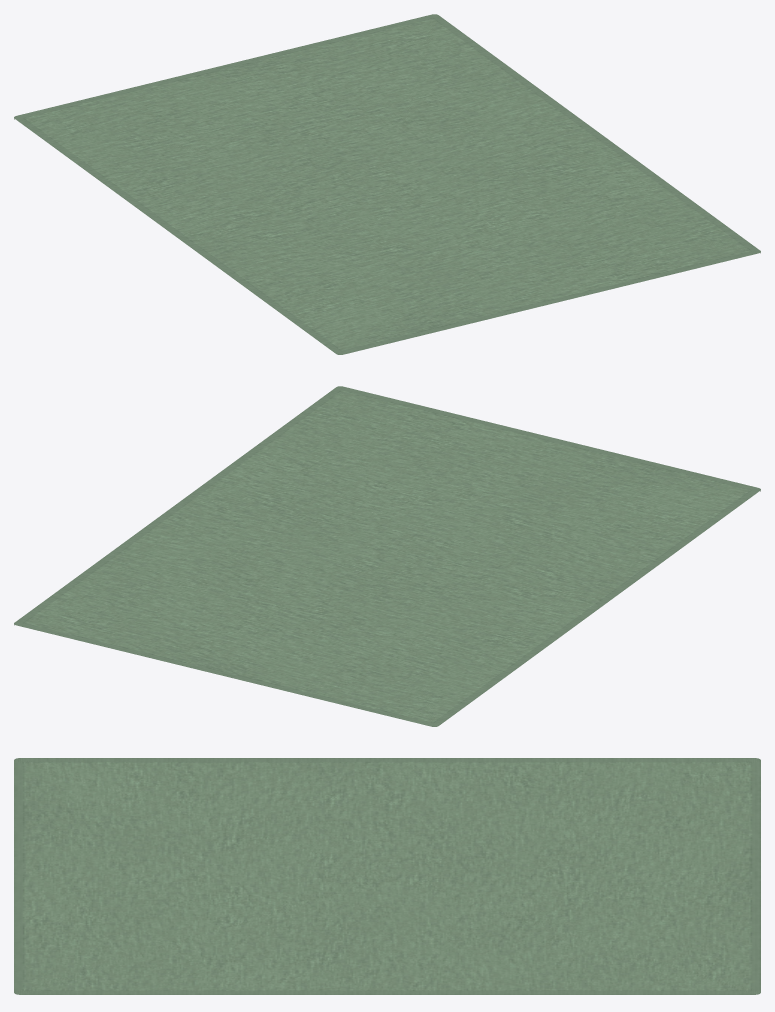
The model's file is green_M.glb.
The picture shows the model from 3 angles, top to bottom: view 1: azimuth 30°, elevation 25°; view 2: azimuth 150°, elevation 25°; view 3: azimuth 270°, elevation 25°; orthographic projection. The views are drawn at different scales.
Parts seen in each view (by area): view 1: reliv_green_M; view 2: reliv_green_M; view 3: reliv_green_M.
Boxes of the visible parts, box(x1,y1,x2,y2) form: reliv_green_M: box(14, 14, 760, 354); reliv_green_M: box(14, 386, 760, 726); reliv_green_M: box(14, 758, 760, 994).
Bounding box in the file's own units: 1.5 × 0.009 × 2.
Materials: 2 (1 with a texture image).
